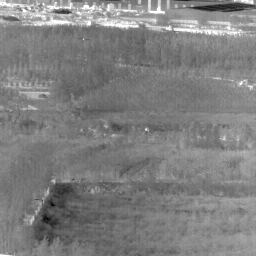aircraft: (82, 38, 84, 40)
